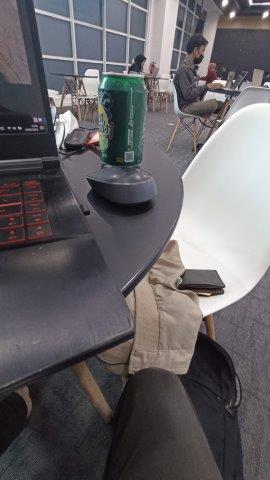kaleng: (98, 72, 148, 167)
